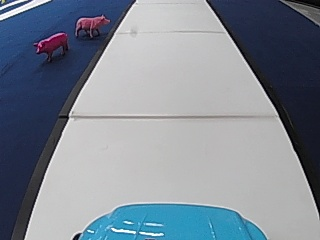pig: (31, 29, 69, 63), (72, 12, 108, 38)
